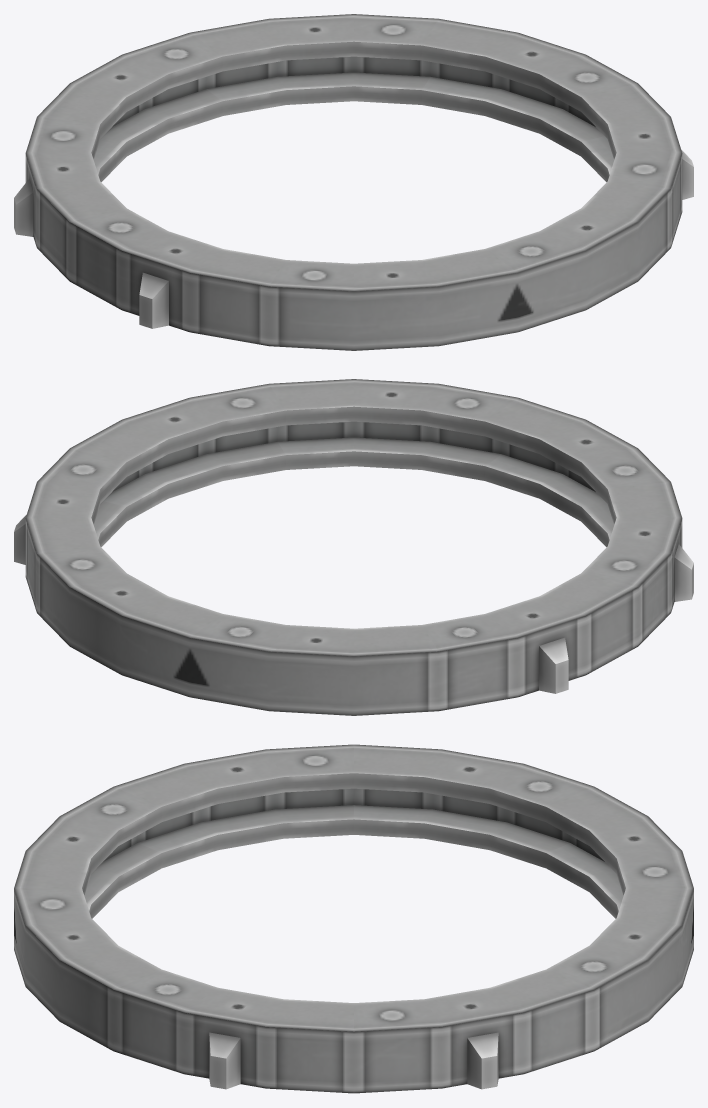
The model's file is Arrow_Decoupler_1_1.obj.
3 renders of one model, top to bottom at view 1: azimuth 30°, elevation 25°; view 2: azimuth 150°, elevation 25°; view 3: azimuth 270°, elevation 25°, orthographic. The views are drawn at different scales.
Visible parts, largest first — view 1: Arrow_Decoupler_1_1; view 2: Arrow_Decoupler_1_1; view 3: Arrow_Decoupler_1_1.
Boxes of the visible parts, <box> form: Arrow_Decoupler_1_1: <box>14,14,693,350</box>; Arrow_Decoupler_1_1: <box>14,379,693,715</box>; Arrow_Decoupler_1_1: <box>14,744,693,1093</box>.
Size of the model in its own units: 1.25 by 0.125 by 1.25.
